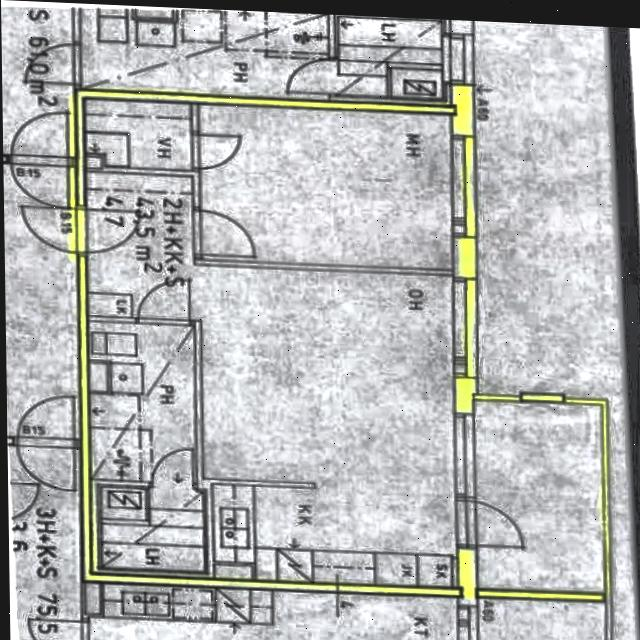room: (193, 105, 458, 269), (473, 399, 603, 595), (77, 4, 330, 100), (88, 321, 194, 484), (88, 485, 210, 577), (331, 15, 452, 105), (83, 100, 194, 170)
